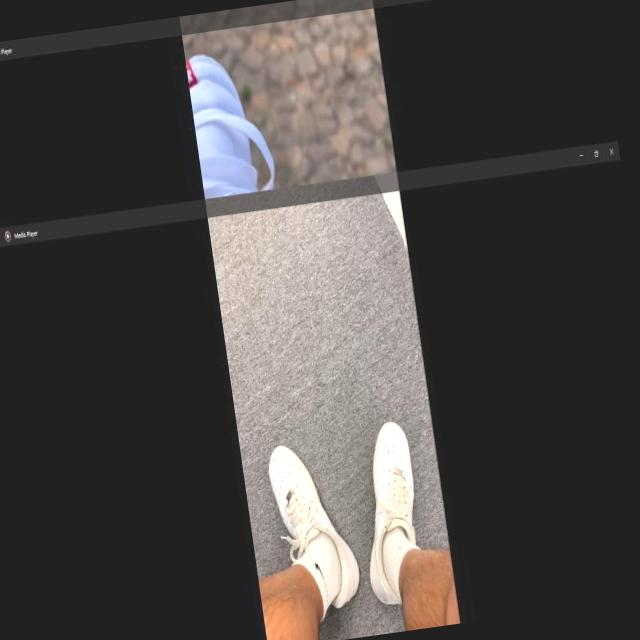nike_original_airforce: (264, 436, 364, 618), (348, 418, 431, 606)
